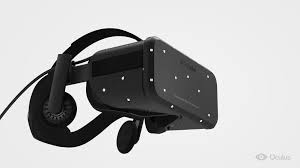oculus: (75, 36, 224, 133)
